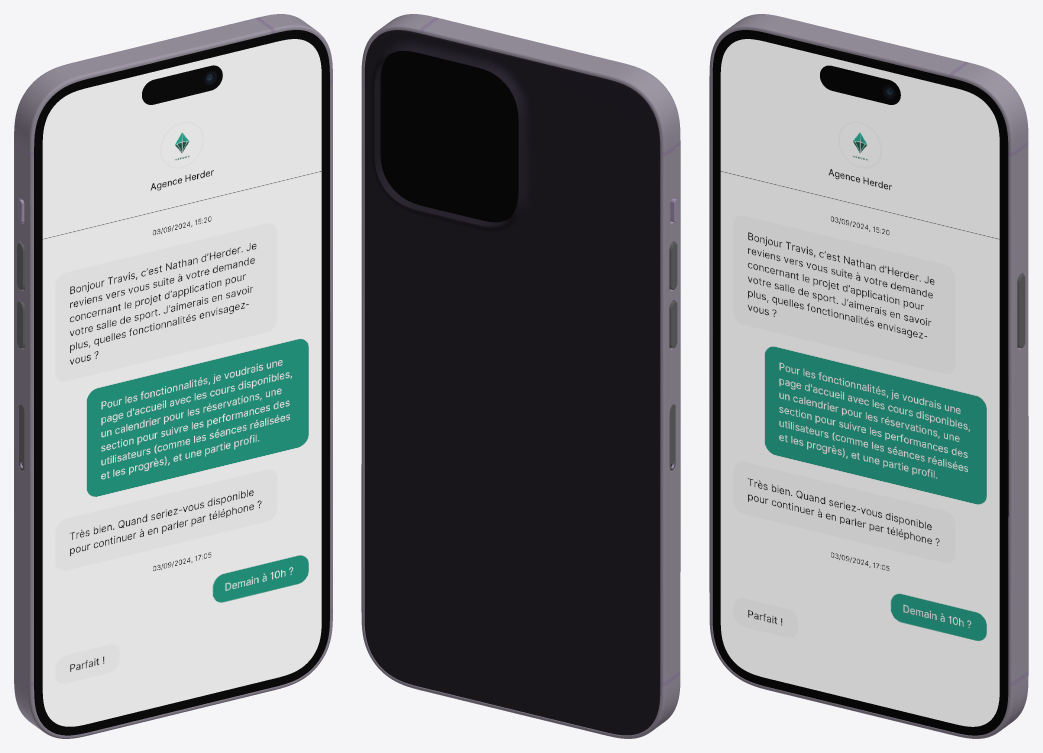
Rendered from sidiali.glb.
3 renders of one model, left to right at view 1: azimuth 30°, elevation 25°; view 2: azimuth 150°, elevation 25°; view 3: azimuth 330°, elevation 25°, orthographic.
Visible parts, largest first — view 1: YbXWdqEcjbfTKuN_0, lgnGJJmNebyRbHq_0, rrqFqyfckTuyRuI, mZxrNiCtMrMjOMv, XbtrdVaOWYmkEiU; view 2: rqSonbcVVSPWFfa_0, lgnGJJmNebyRbHq_0, UCttAeyROPsgmix, mZxrNiCtMrMjOMv; view 3: YbXWdqEcjbfTKuN_0, lgnGJJmNebyRbHq_0, rrqFqyfckTuyRuI, mZxrNiCtMrMjOMv, XbtrdVaOWYmkEiU.
Boxes of the visible parts, x1,y1,x2,y2 form: YbXWdqEcjbfTKuN_0: (42, 39, 321, 726); lgnGJJmNebyRbHq_0: (14, 14, 332, 738); rrqFqyfckTuyRuI: (34, 30, 329, 735); mZxrNiCtMrMjOMv: (17, 242, 25, 348); XbtrdVaOWYmkEiU: (146, 77, 188, 99); rqSonbcVVSPWFfa_0: (364, 30, 660, 735); lgnGJJmNebyRbHq_0: (361, 14, 680, 738); UCttAeyROPsgmix: (380, 51, 518, 222); mZxrNiCtMrMjOMv: (669, 242, 677, 348); YbXWdqEcjbfTKuN_0: (720, 39, 999, 726); lgnGJJmNebyRbHq_0: (709, 14, 1028, 738); rrqFqyfckTuyRuI: (712, 30, 1008, 735); mZxrNiCtMrMjOMv: (1017, 274, 1025, 348); XbtrdVaOWYmkEiU: (824, 70, 866, 92).
Size of what is drawn, in the model's own units: 0.2413 by 0.4956 by 0.0296.
Materials: 23 (7 with a texture image).
